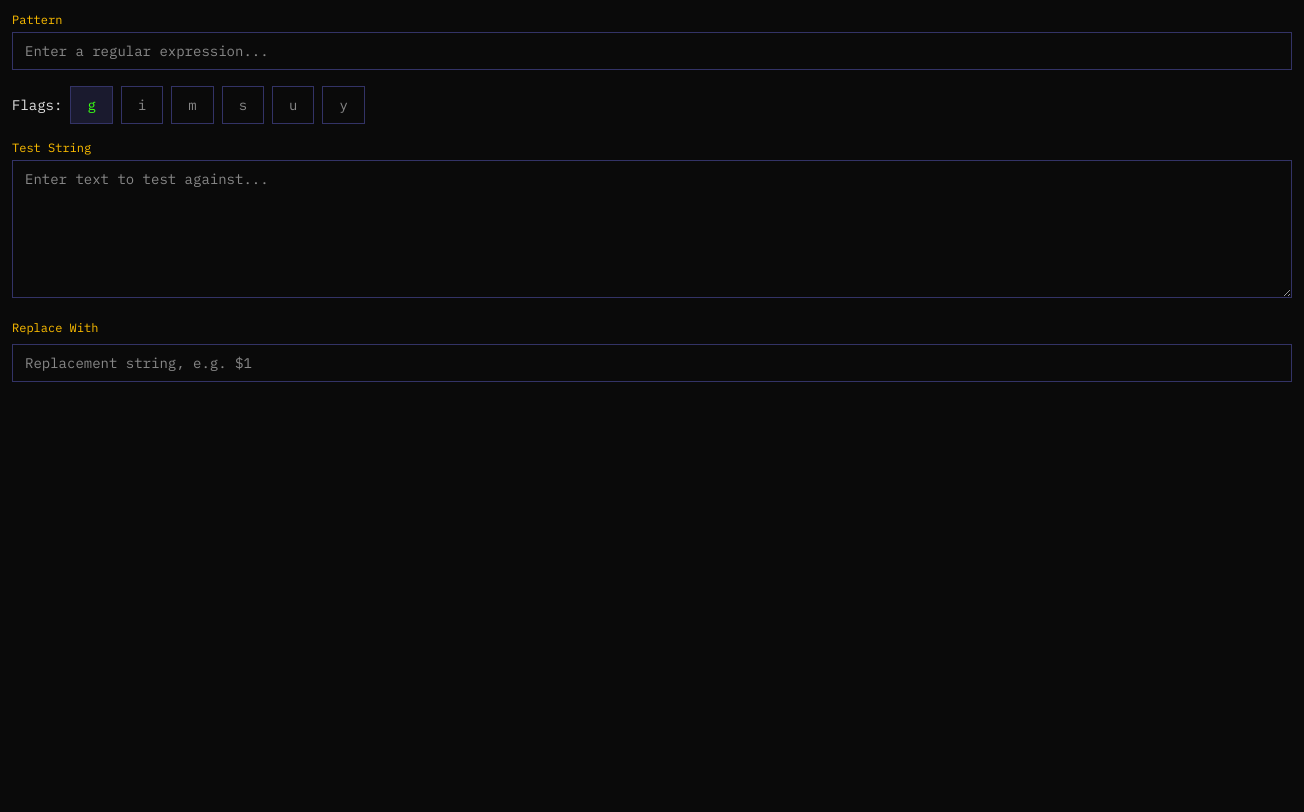
it: RegexTester › changes the result when the i flag is toggled
The image size is (1304, 812).
Type "abc" into the field labelled "Pattern" at point(652, 51), box [12,32,1292,70]
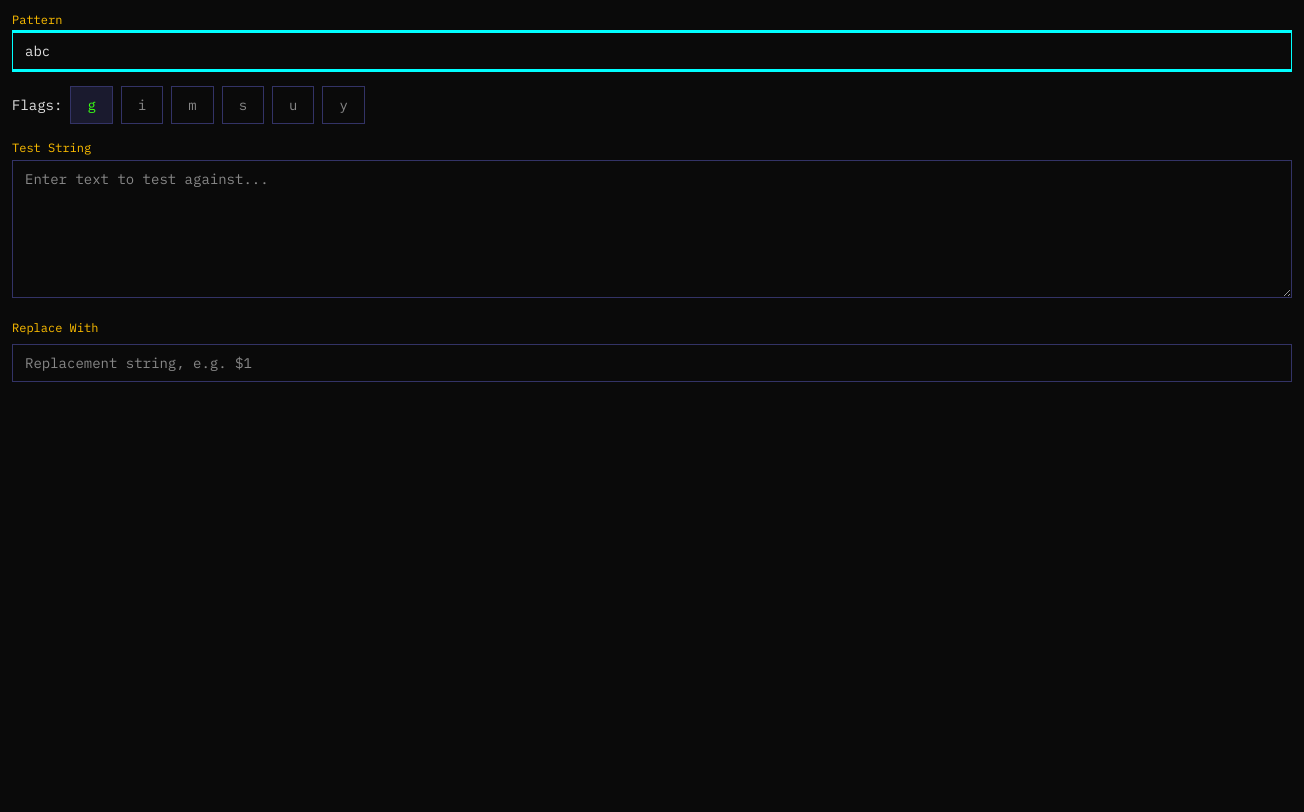
Type "ABC abc" into the text box labelled "Test String" at point(652, 229), box [12,160,1292,298]
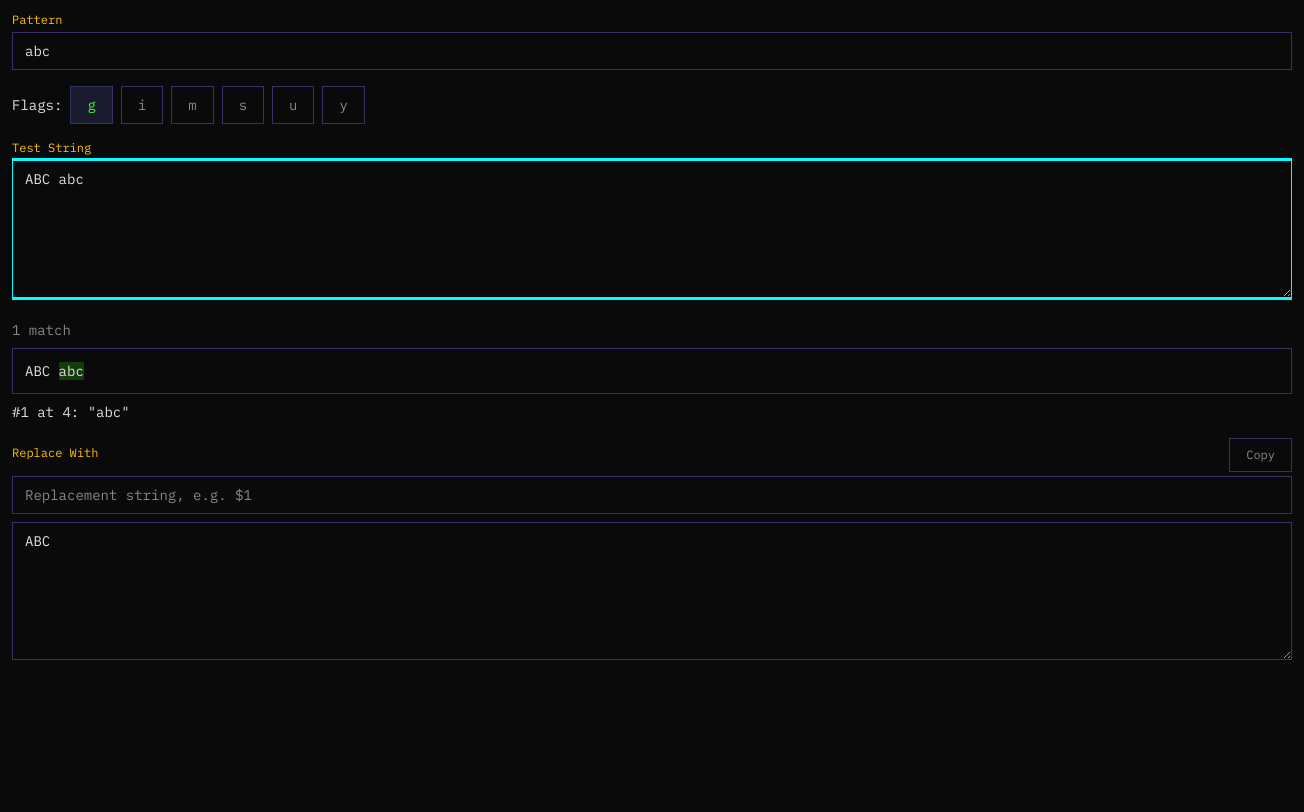
Result: the text "1 match" is shown at [12,321,71,339]
Click the button "i" at point(142, 105), box [121,86,163,124]
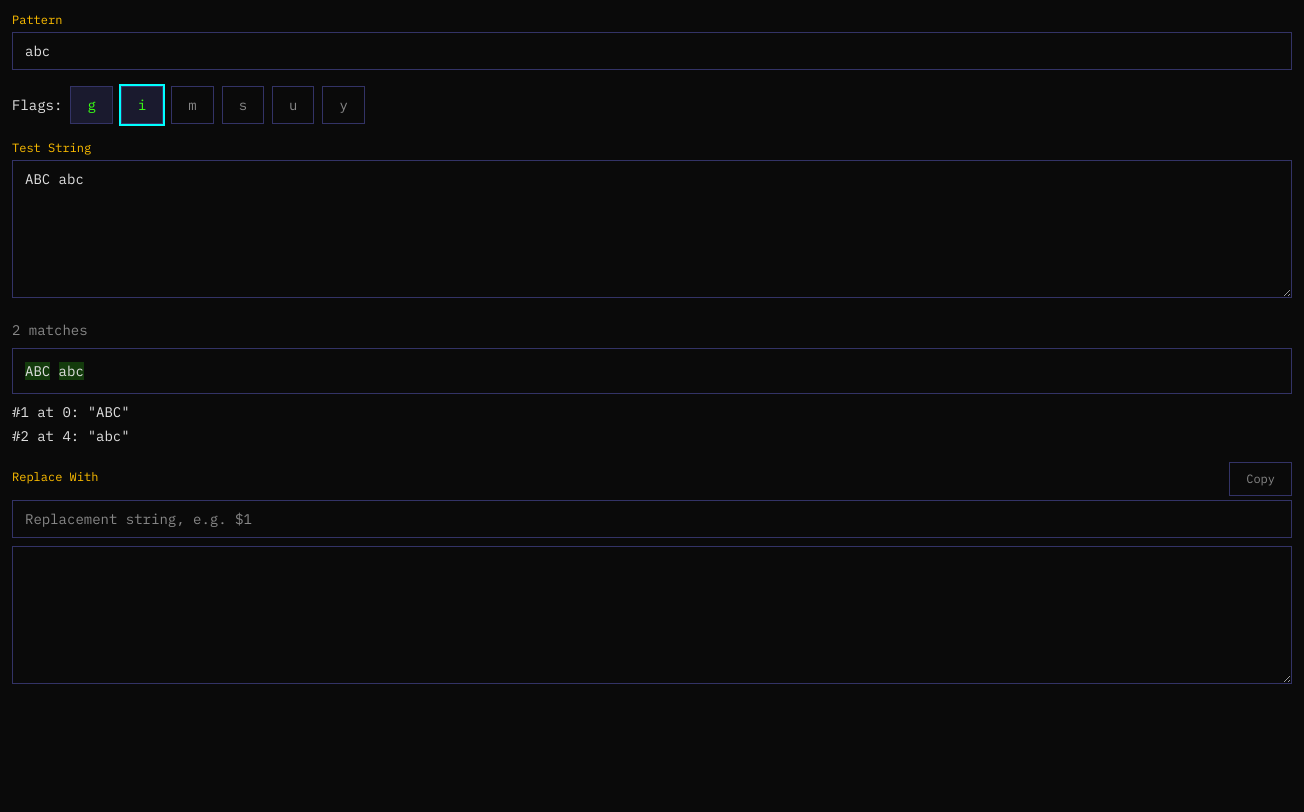
Result: the text "2 matches" is shown at [12,321,88,339]
